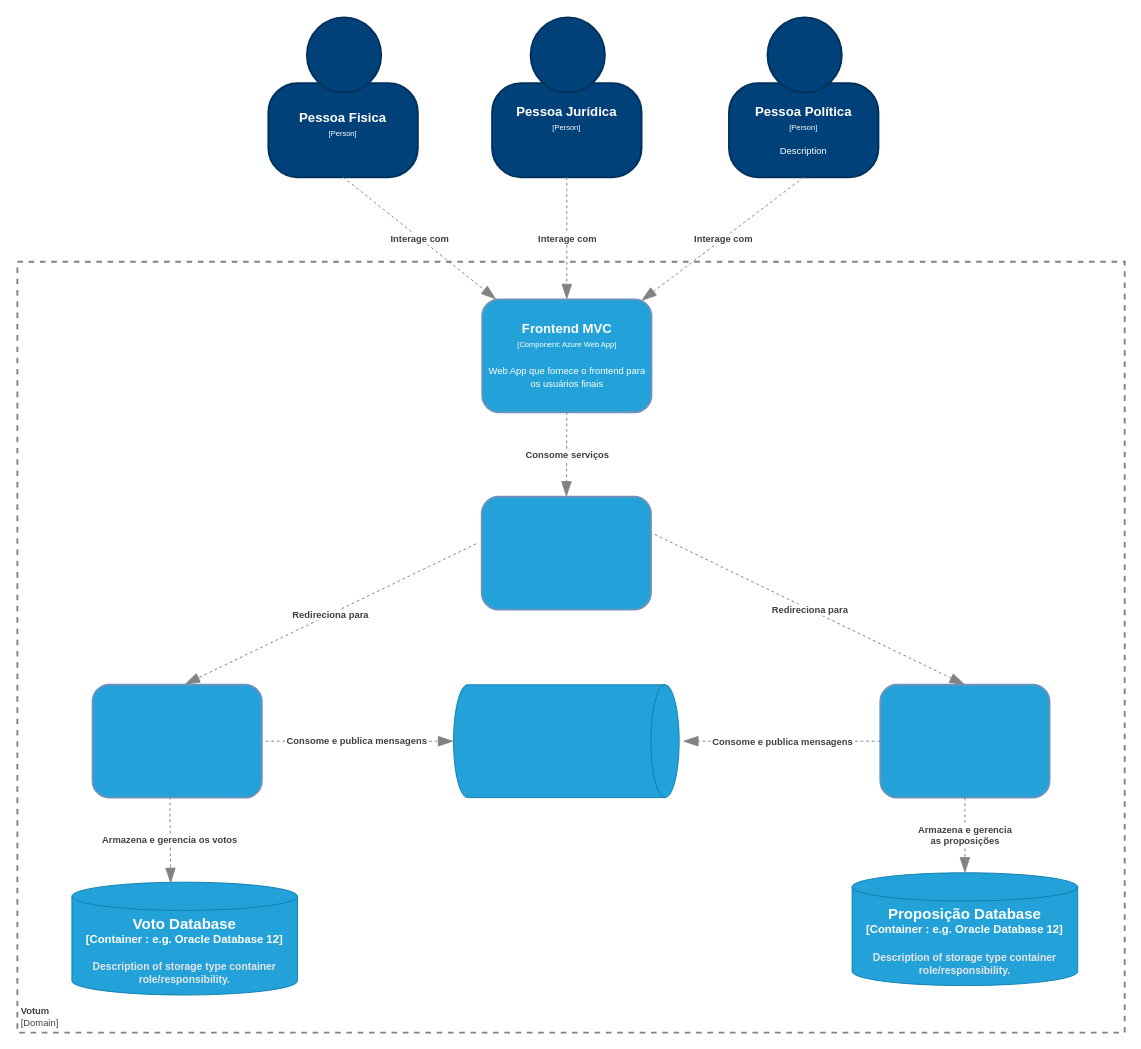
Some shapes in this 1141 by 1049 pixel diagram are drawn without their labels. The centre of each missing label's shape, as x and y in pixels:
"API Gateway [Component: Azure API Management] Gateway Agregador de APIs" goes at (x=565, y=552).
"Message Bus [Container: Azure Service Bus] Hub de mensageria por tópicos" goes at (x=566, y=741).
"Proposição API [Component: e.g. Spring Bean] Microsserviço de proposições" goes at (x=964, y=740).
"Voto API [Component: .NET7 Web API] Microsserviço de registro e apuração de voto" goes at (x=176, y=740).
